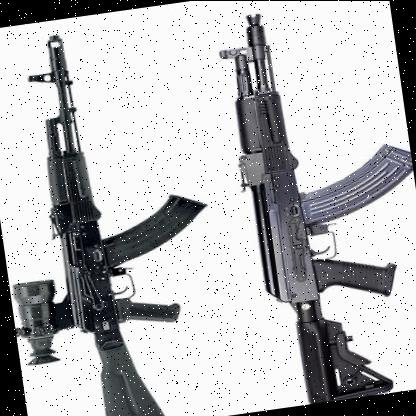rifle: (0, 13, 242, 416), (202, 0, 416, 411)
